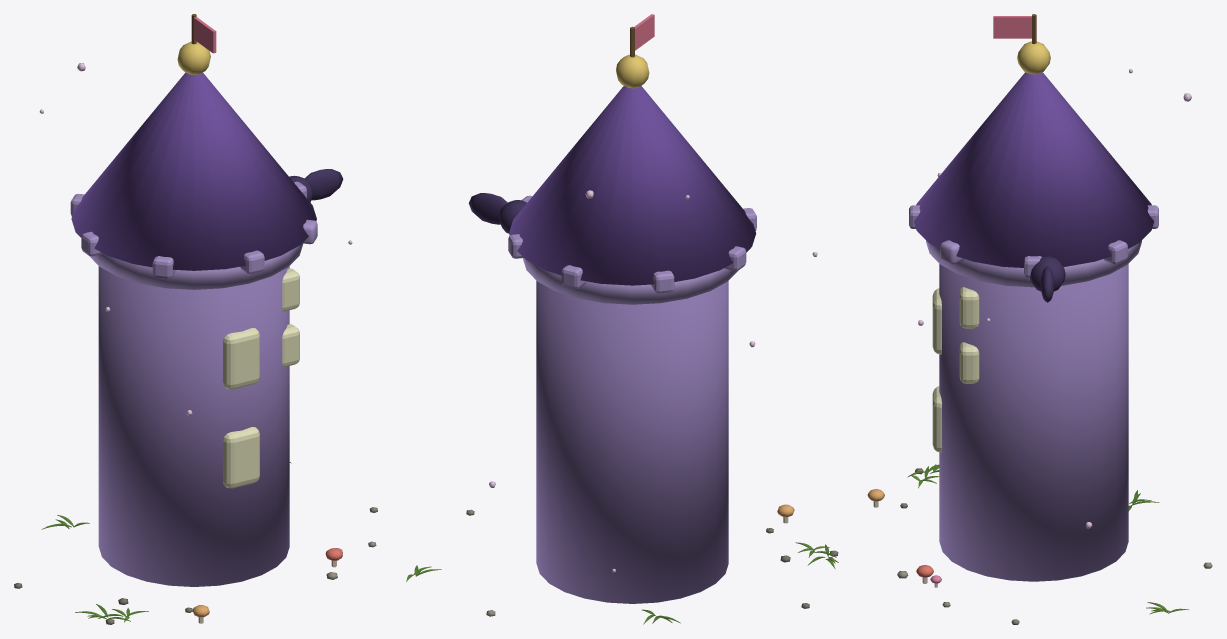
File: gym_deco_castle_lite.glb
3 renders of one model, left to right at view 1: azimuth 30°, elevation 25°; view 2: azimuth 150°, elevation 25°; view 3: azimuth 270°, elevation 25°, orthographic.
Parts seen in each view (by area): view 1: Cylinder; view 2: Cylinder; view 3: Cylinder.
Part boxes in pixels (x1,y1,x2,y2): Cylinder: (14,14,377,624); Cylinder: (406,14,838,624); Cylinder: (867,14,1212,624).
Size of the model in its own units: 5.96 by 8.63 by 5.11.
